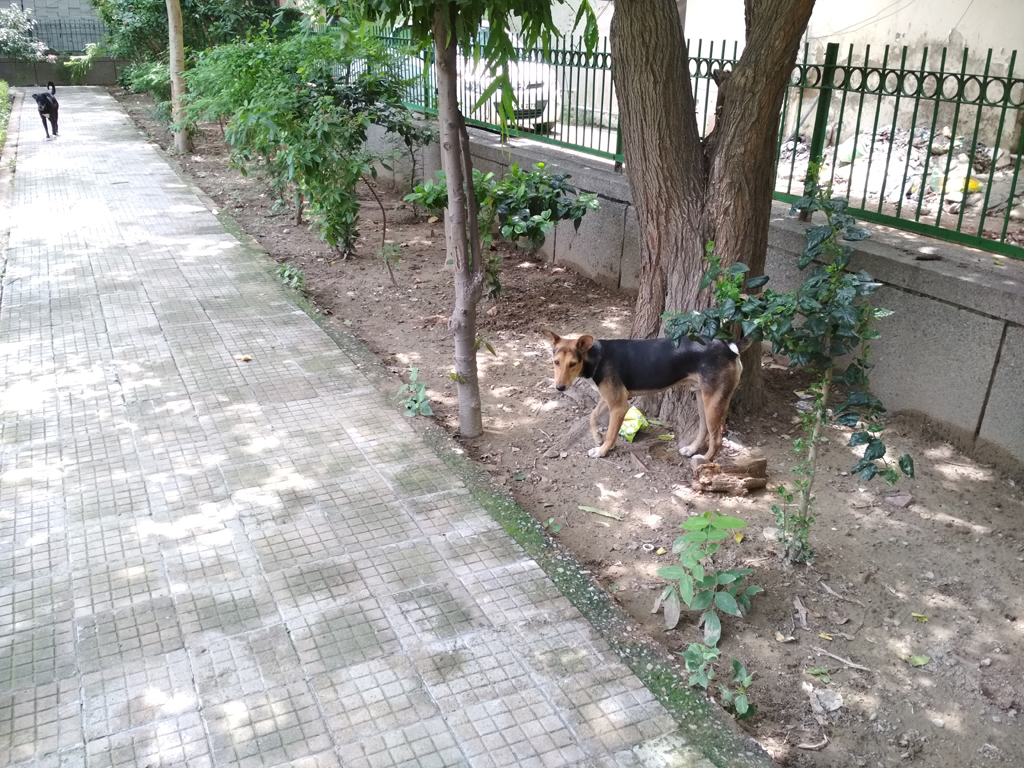dog: (542, 330, 744, 457), (32, 81, 61, 140)
